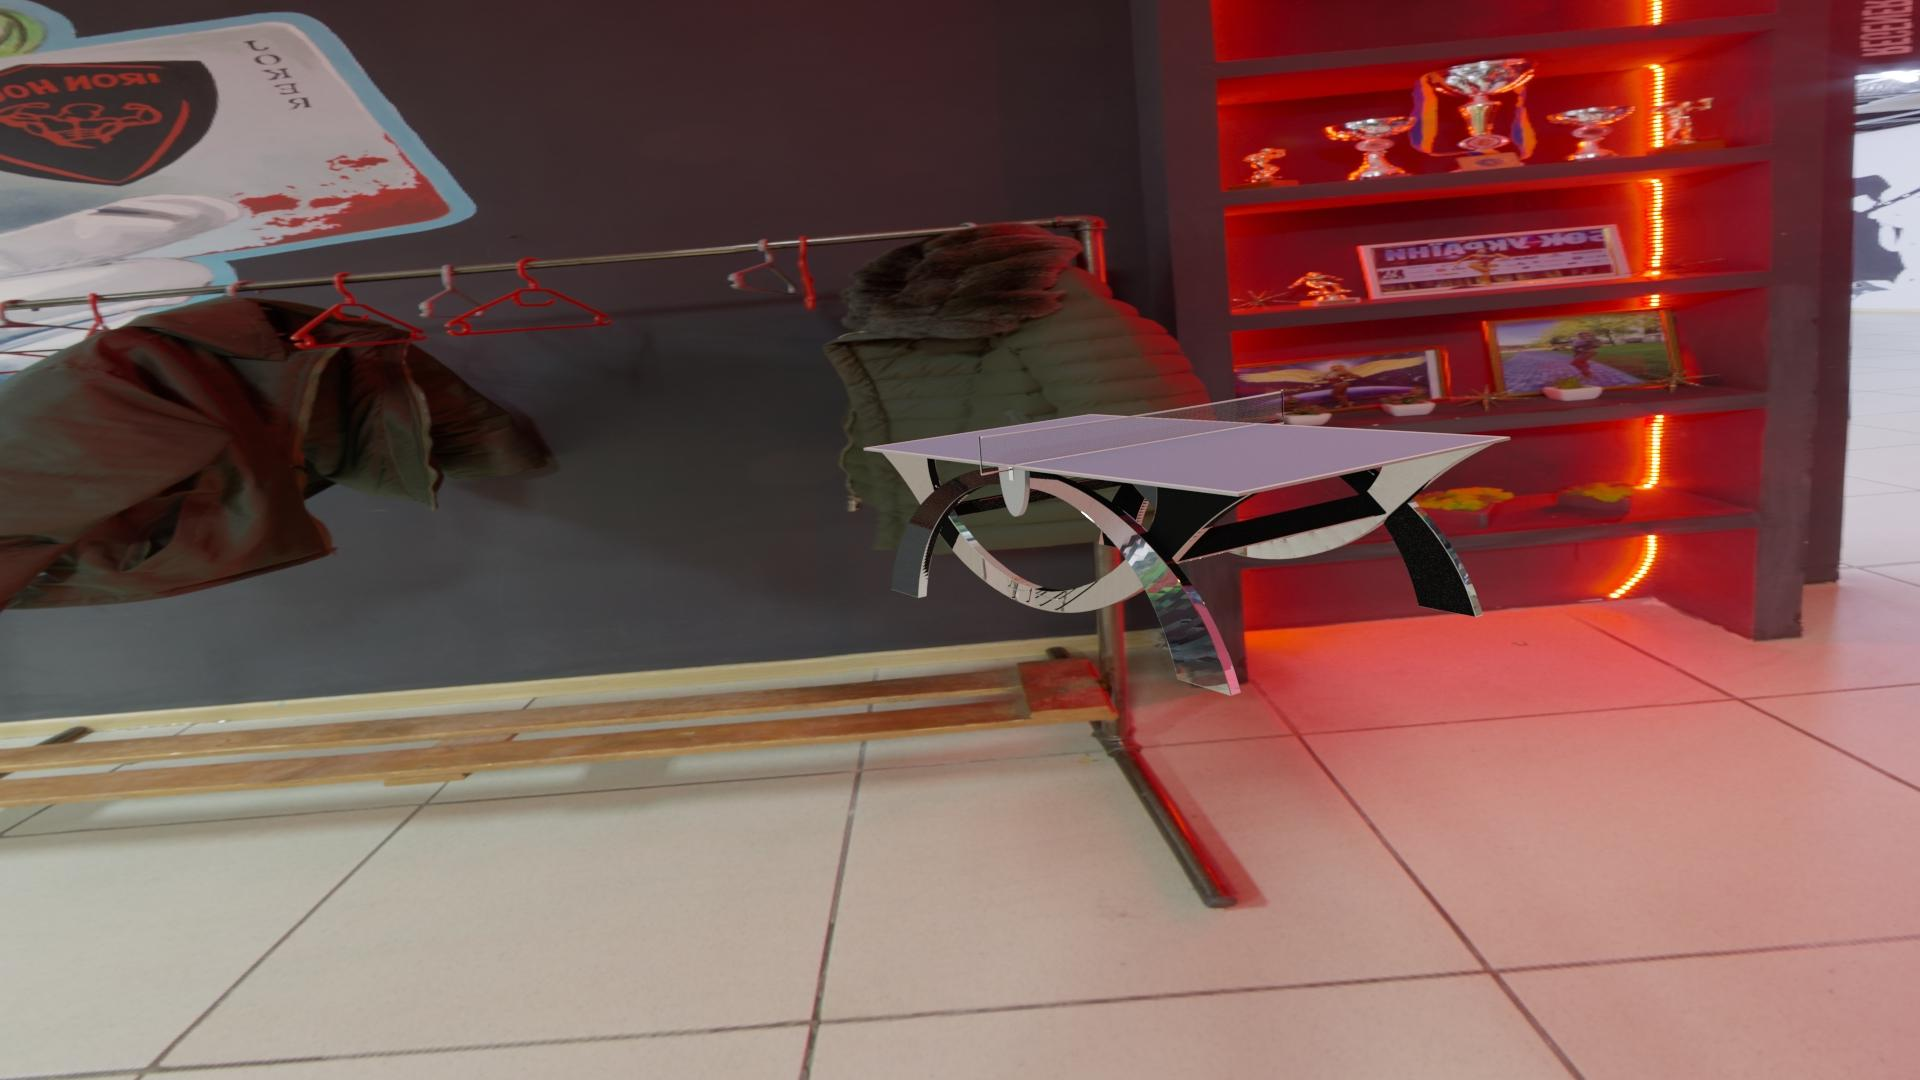table: (869, 415, 1503, 492)
